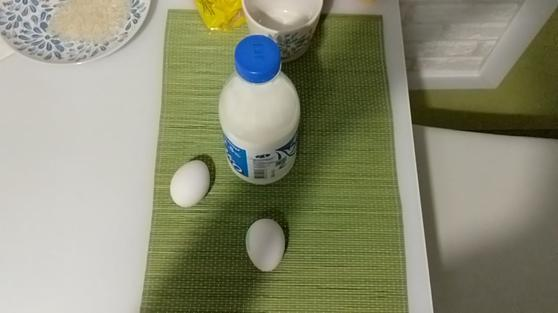egg: (236, 209, 294, 280), (165, 152, 215, 216)
milk: (209, 25, 323, 191)
